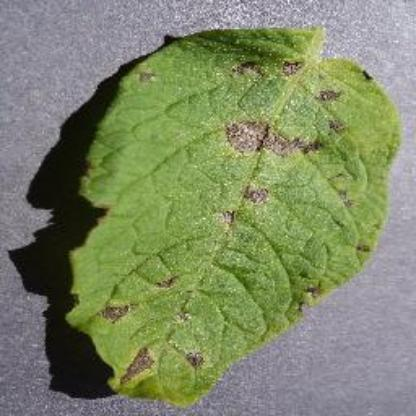Early-Blight: (67, 20, 404, 404)
